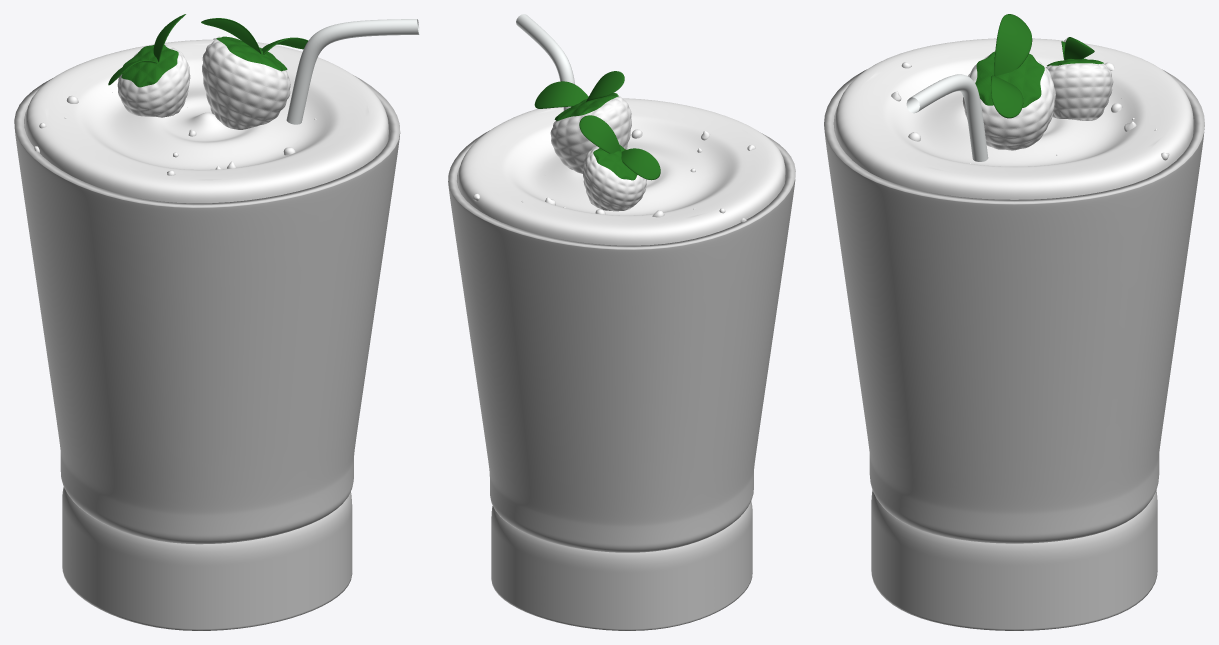
File: smoothie-3d-animated-icon-444880437394.glb
The picture shows the model from 3 angles, left to right: view 1: azimuth 30°, elevation 25°; view 2: azimuth 150°, elevation 25°; view 3: azimuth 270°, elevation 25°; orthographic projection. The views are drawn at different scales.
Parts seen in each view (by area): view 1: Cube, Cube.007, Cube.003, NurbsPath, Cube.005, Cube.006, Cube.004; view 2: Cube, Cube.007, Cube.003, Cube.006, Cube.005, Cube.004, NurbsPath, Smoothie Detail; view 3: Cube, Cube.007, Cube.004, Cube.003, Cube.005, NurbsPath, Cube.006, Smoothie Detail.
Part boxes in pixels (bbox=[...]): Cube: bbox=[14, 75, 400, 630]; Cube.007: bbox=[25, 39, 388, 203]; Cube.003: bbox=[202, 40, 290, 129]; NurbsPath: bbox=[286, 19, 419, 124]; Cube.005: bbox=[117, 45, 190, 117]; Cube.006: bbox=[108, 14, 185, 87]; Cube.004: bbox=[201, 18, 308, 71]; Cube: bbox=[448, 130, 795, 630]; Cube.007: bbox=[458, 98, 785, 245]; Cube.003: bbox=[550, 96, 631, 173]; Cube.006: bbox=[579, 115, 660, 180]; Cube.005: bbox=[583, 146, 646, 211]; Cube.004: bbox=[534, 71, 624, 121]; NurbsPath: bbox=[516, 14, 574, 110]; Smoothie Detail: bbox=[473, 129, 755, 222]; Cube: bbox=[824, 69, 1204, 630]; Cube.007: bbox=[835, 38, 1193, 199]; Cube.004: bbox=[975, 14, 1044, 118]; Cube.003: bbox=[962, 55, 1055, 150]; Cube.005: bbox=[1046, 63, 1113, 120]; NurbsPath: bbox=[906, 74, 988, 161]; Cube.006: bbox=[1047, 37, 1103, 66]; Smoothie Detail: bbox=[891, 38, 1169, 163].
Size of the model in its own units: 1.95 by 3.15 by 1.95.
